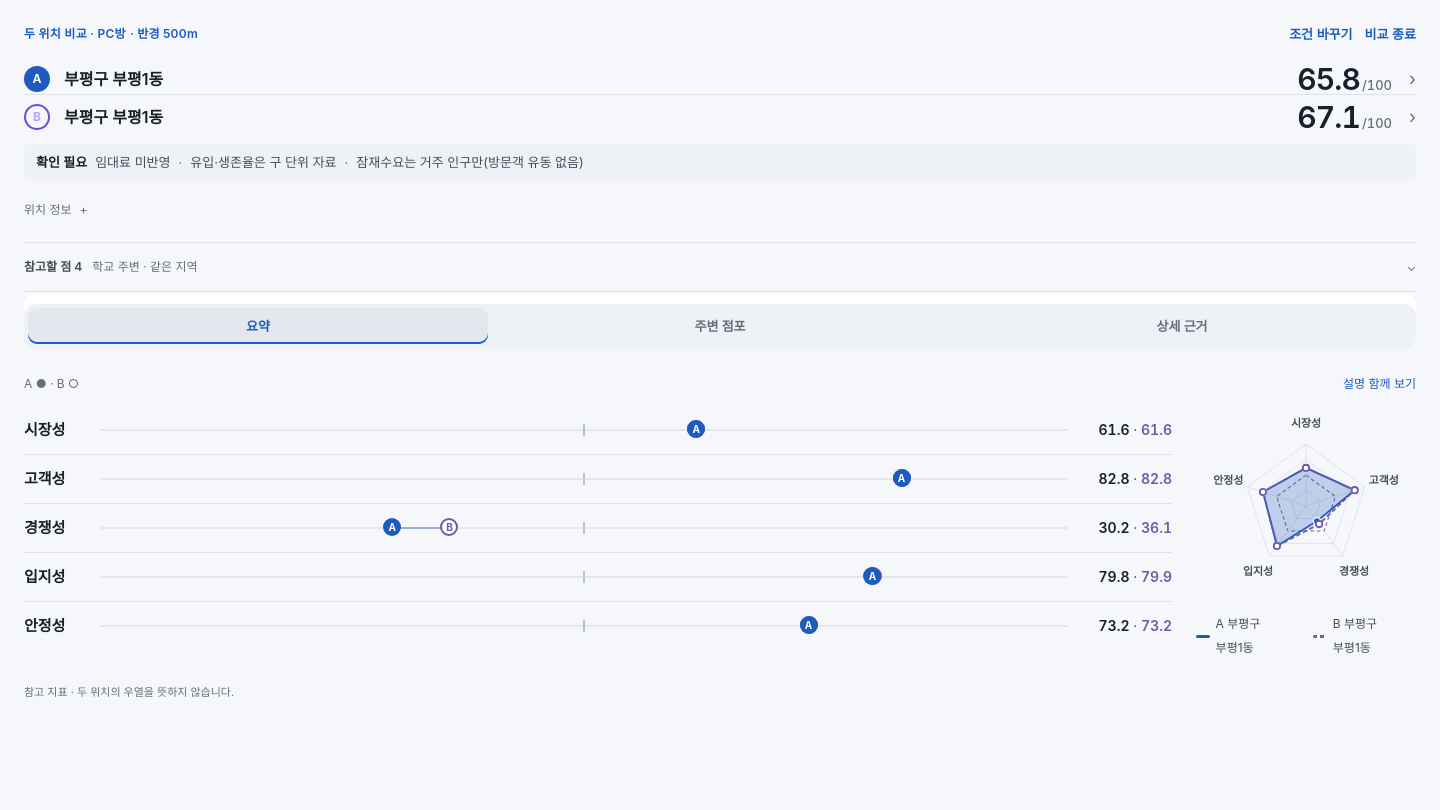
Scenario: CompareResult — 해석 안내 › 같은 동: 같은 구·동 안내, 행별 "같은 구/동 데이터", 반경 겹침(322m)
The width and height of the screenshot is (1440, 810).
Step 1. Click the tab "상세 근거" → (1182, 326), box 952,308 -> 1412,344
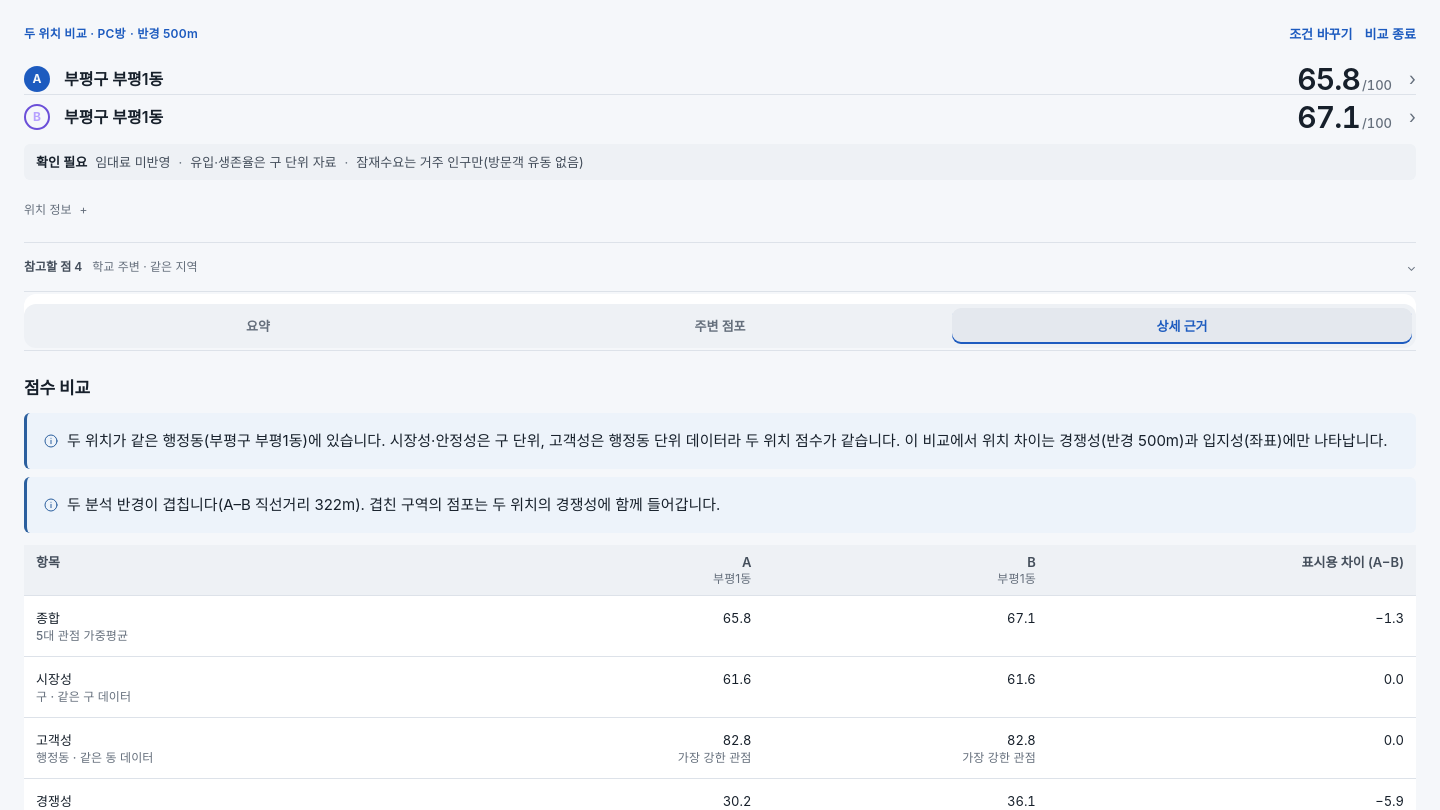
Expected: the column heading "시장성 구 · 같은 구 데이터" is shown, 24,656 -> 479,718
Expected: the column heading "고객성 행정동 · 같은 동 데이터" is shown, 24,718 -> 479,778
Expected: the 1st cell "0.0" is shown, 1048,656 -> 1416,718
